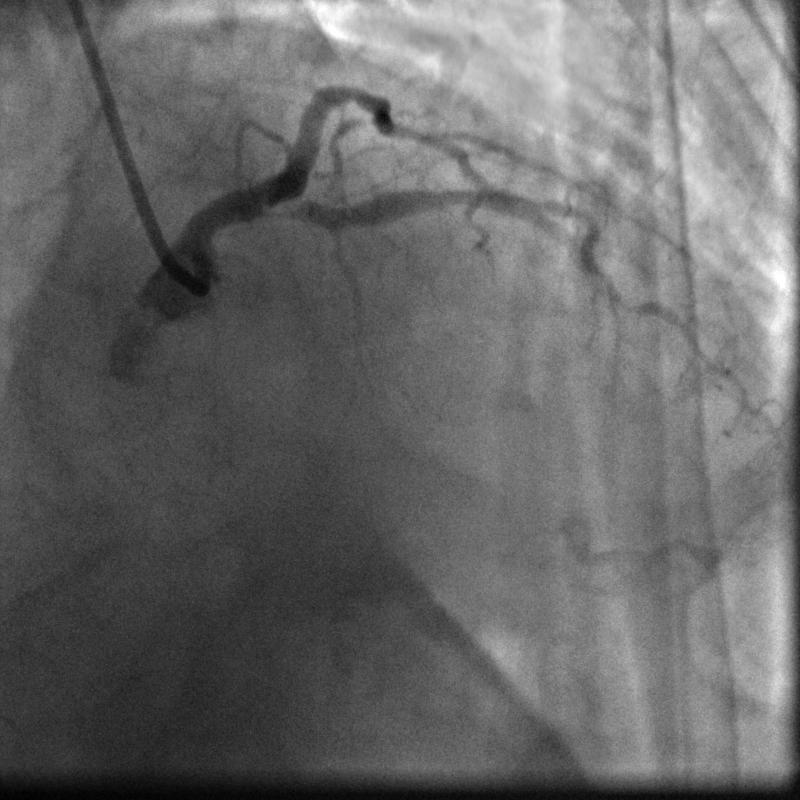Stenosis: (275, 190, 321, 220)
